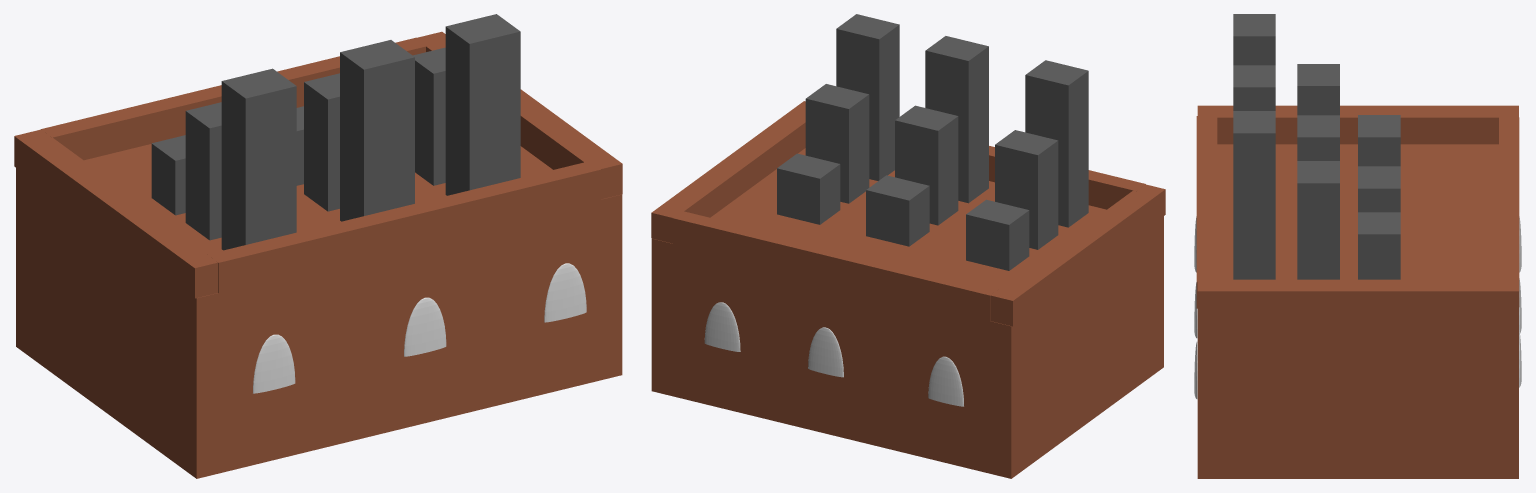
Rendered from factory.glb.
3 renders of one model, left to right at view 1: azimuth 30°, elevation 25°; view 2: azimuth 150°, elevation 25°; view 3: azimuth 270°, elevation 25°, orthographic. The views are drawn at different scales.
Parts seen in each view (by area): view 1: Cube.007, Cube.003, Sphere.002; view 2: Cube.007, Cube.003, Sphere.002; view 3: Cube.007, Cube.003, Sphere.002.
Part boxes in pixels (left/top/right/bottom): Cube.007: left=14, top=31, right=622, bottom=478; Cube.003: left=151, top=14, right=520, bottom=250; Sphere.002: left=253, top=263, right=586, bottom=393; Cube.007: left=651, top=101, right=1165, bottom=478; Cube.003: left=777, top=14, right=1088, bottom=270; Sphere.002: left=704, top=302, right=963, bottom=406; Cube.007: left=1196, top=105, right=1519, bottom=478; Cube.003: left=1233, top=14, right=1400, bottom=279; Sphere.002: left=1194, top=216, right=1521, bottom=399.
Size of the model in its own units: 2.01 by 1.57 by 1.5.
